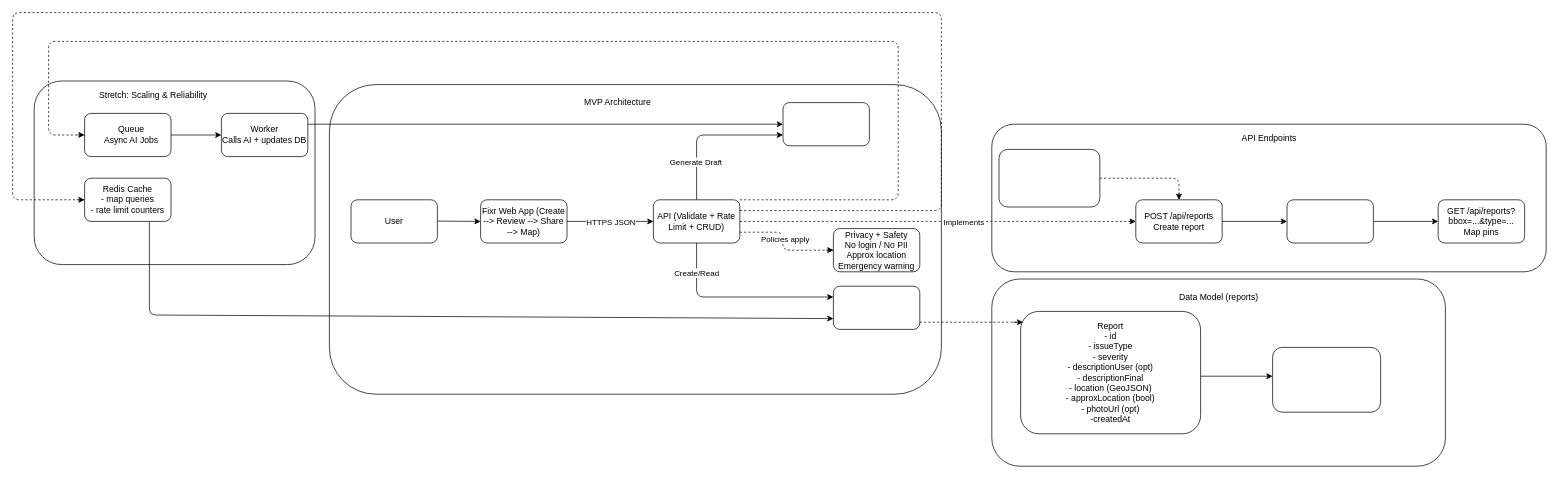
Some shapes in this 1559 by 479 pixel diagram are drawn without their labels. The box of each missing label's shape, as (x1, y1, x2, y2) in pixels:
AI Provider (Report drafting): (782, 102, 869, 146)
GET /api/reports/:id Share page: (1286, 199, 1373, 243)
Indexes - 2dsphere (location) - createdAt - (opt) TTL for stored photos): (1272, 347, 1381, 412)
MongoDB Atlas Reports + Geo Index: (833, 285, 920, 329)
POST /api/generate (optional) Draft text can be folded into POST /reports: (998, 149, 1100, 207)
